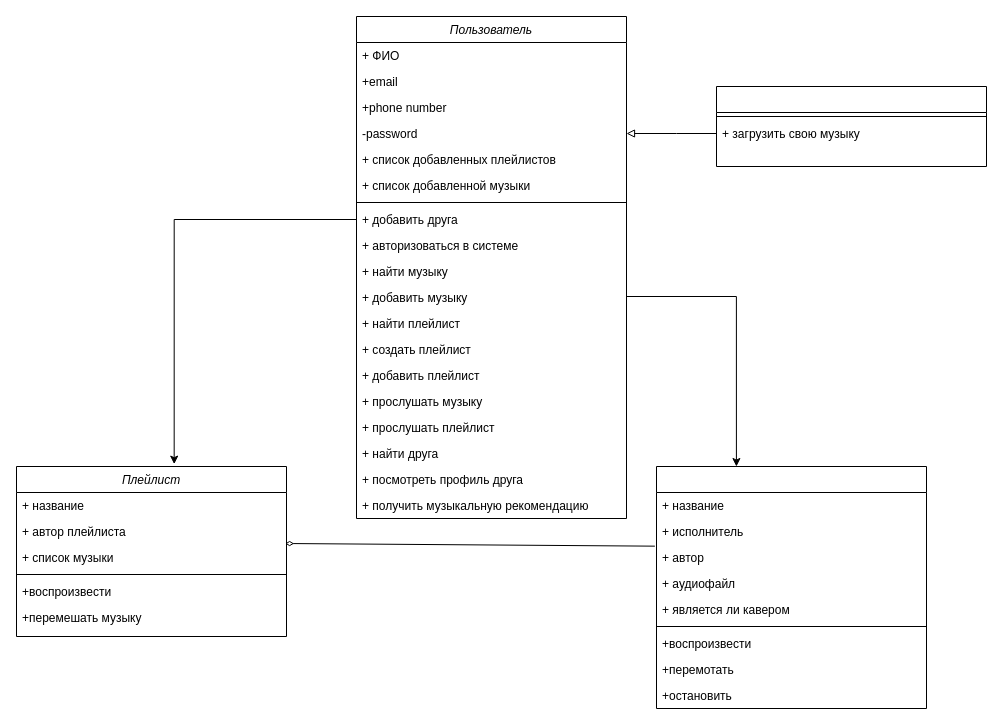
The diagram is 1003 pixels wide and 725 high, and some of its shapes have lost their labels. Each missing label, with the box of its shape:
Автор: (716, 86, 986, 166)
Музыка: (656, 466, 926, 708)
